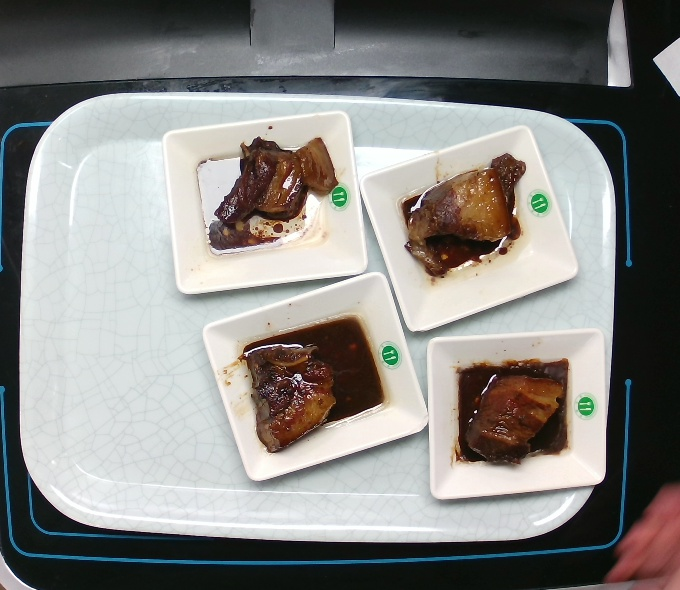wcq-DaKuaiRou: (234, 307, 389, 459), (386, 145, 530, 285), (180, 128, 338, 255), (449, 349, 583, 479)
